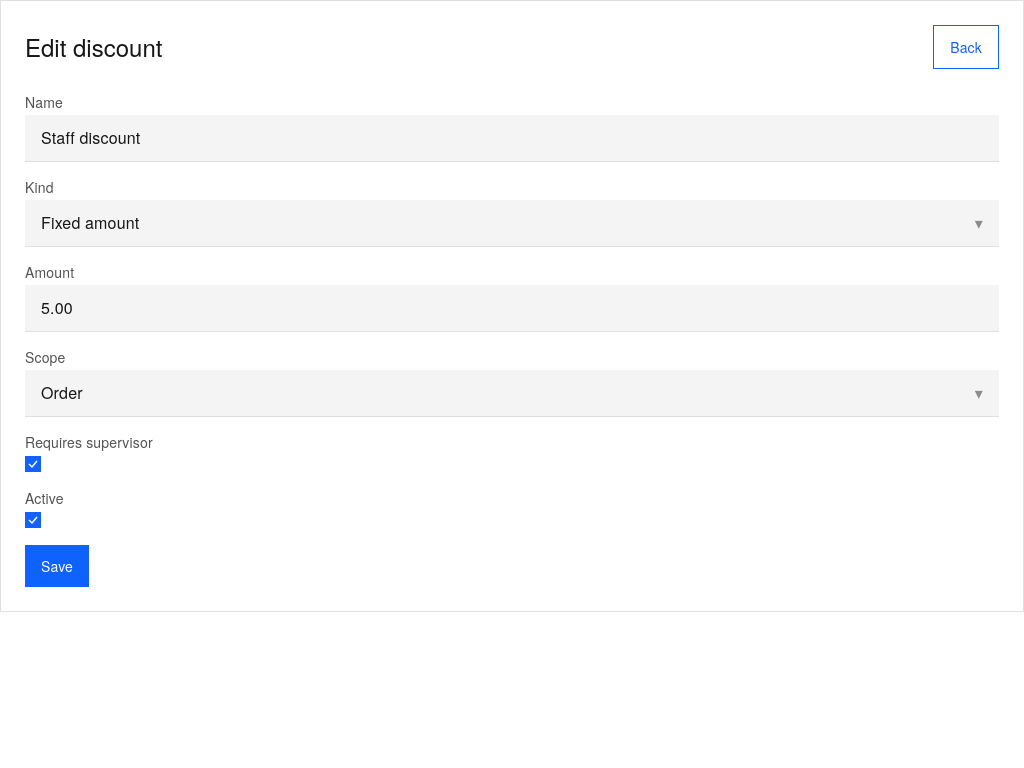
DiscountEditor › rejects a blank amount instead of silently saving as $0
Clear the field labelled "Amount" at (512, 309), box [25, 285, 999, 332]
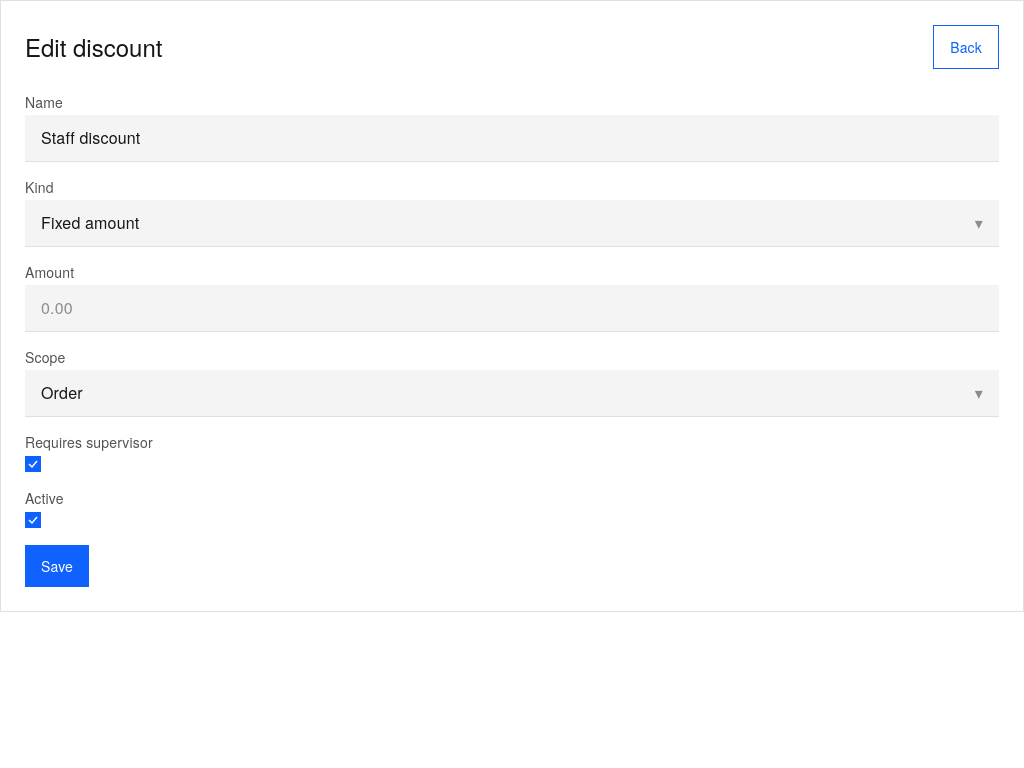
Click the button "Save".
click(57, 566)  # box [25, 545, 89, 587]
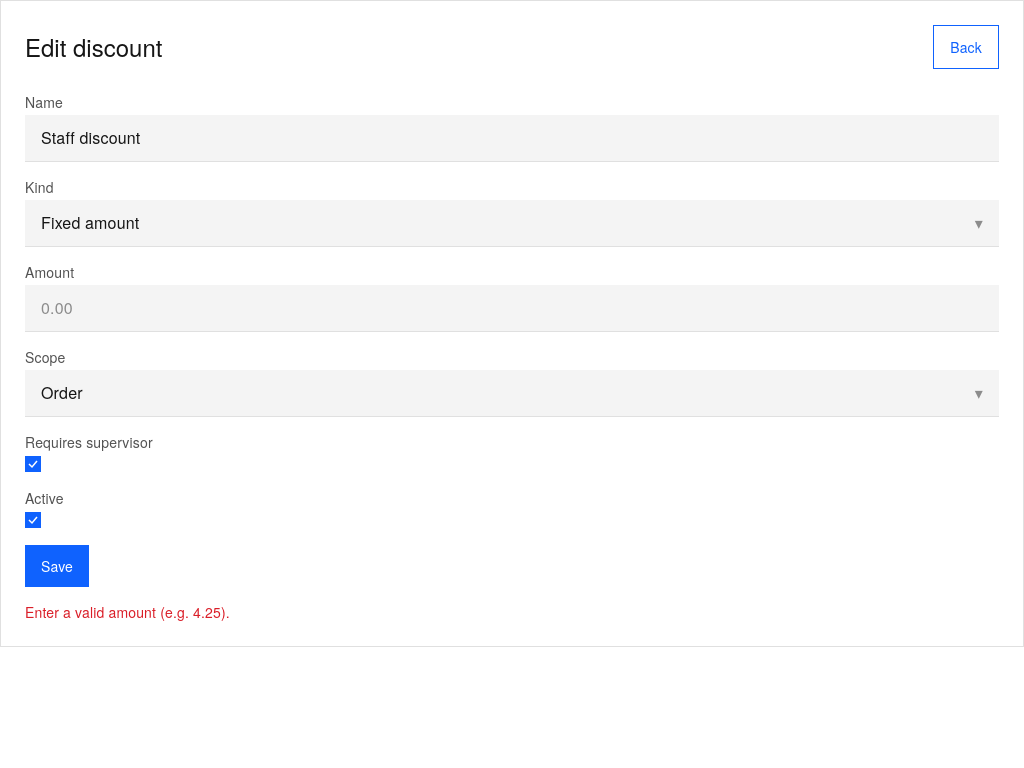
Expected: the text "Enter a valid amount (e.g. 4.25)." is shown, [25, 602, 230, 622]
